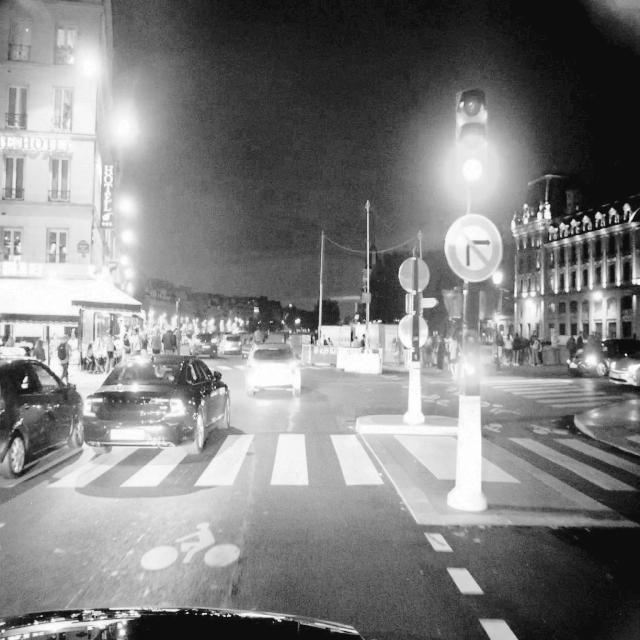Car: (82, 353, 230, 456), (0, 352, 85, 477), (248, 344, 301, 399)
Light: (458, 87, 486, 185), (464, 333, 476, 379)
Sign: (444, 213, 502, 283), (399, 257, 437, 351)
